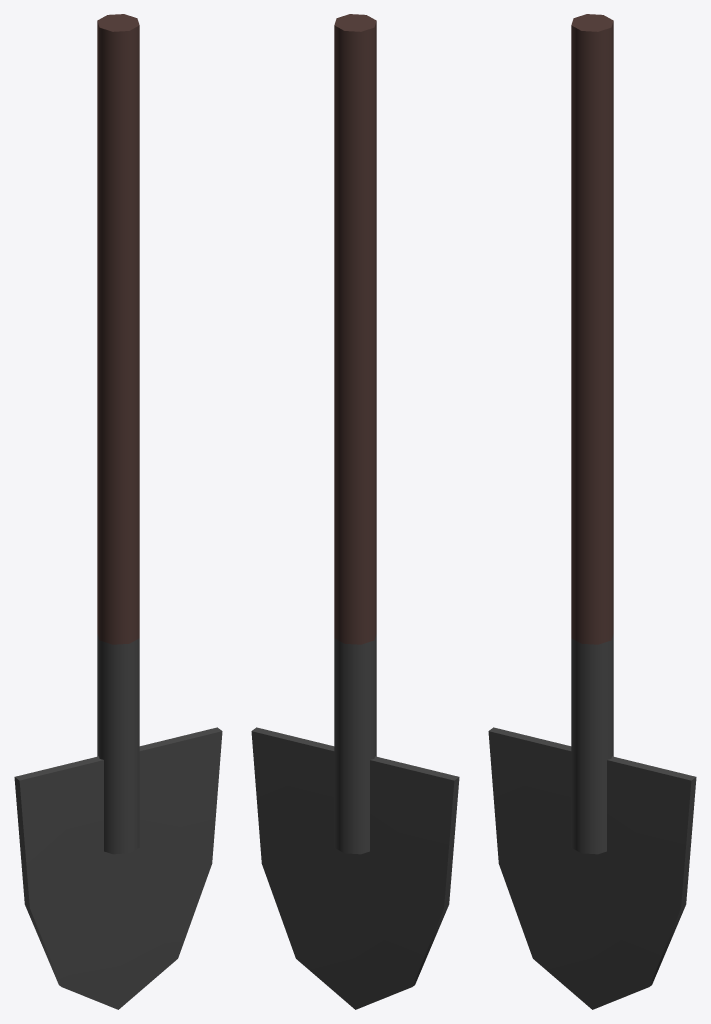
Rendered from shovel.fbx.
3 renders of one model, left to right at view 1: azimuth 30°, elevation 25°; view 2: azimuth 150°, elevation 25°; view 3: azimuth 330°, elevation 25°, orthographic.
Visible parts, largest first — view 1: shovel; view 2: shovel; view 3: shovel.
Boxes of the visible parts, left/top/right/bottom form: shovel: left=14, top=14, right=222, bottom=1009; shovel: left=251, top=14, right=459, bottom=1009; shovel: left=488, top=14, right=696, bottom=1009.
Size of the model in its own units: 45.62 by 212 by 8.52.
